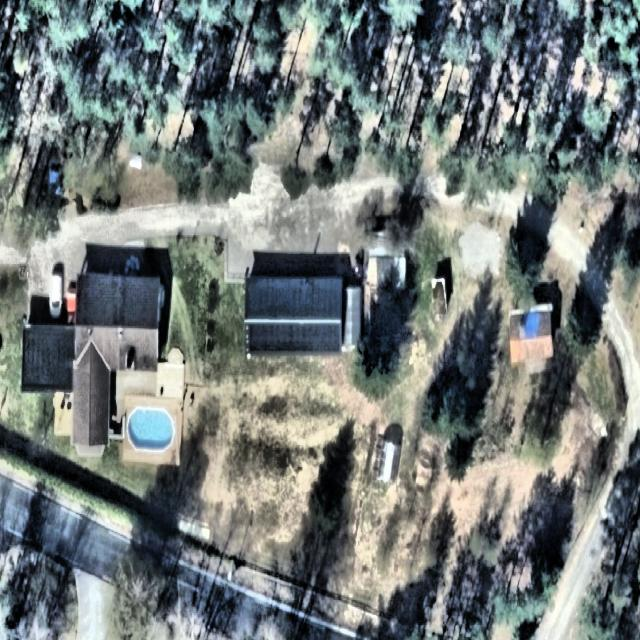roof_pv: (246, 324, 343, 363)
